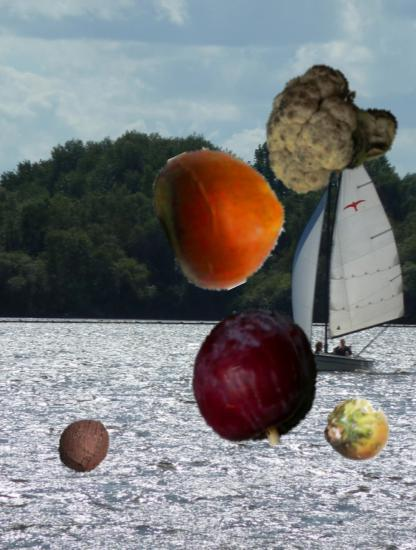Banana: (187, 199, 242, 254)
Cactus: (325, 397, 391, 463)
Cauliflower: (263, 60, 400, 197)
Cocos: (52, 415, 115, 478)
Nut: (150, 142, 294, 286)
Plum: (185, 308, 325, 448)
